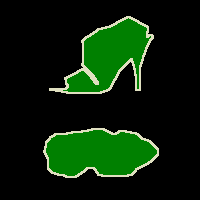shoe: (50, 16, 153, 93), (44, 128, 158, 177)
